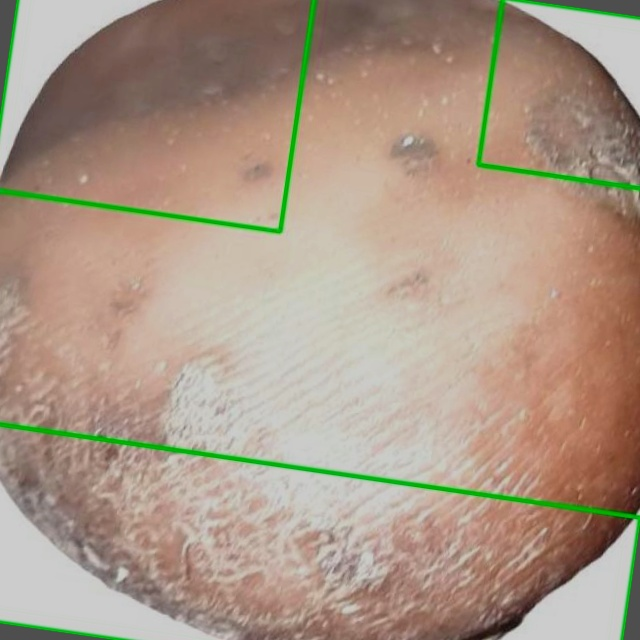Contact Dermatitis: (0, 424, 639, 639), (0, 0, 313, 231), (478, 0, 639, 188)
